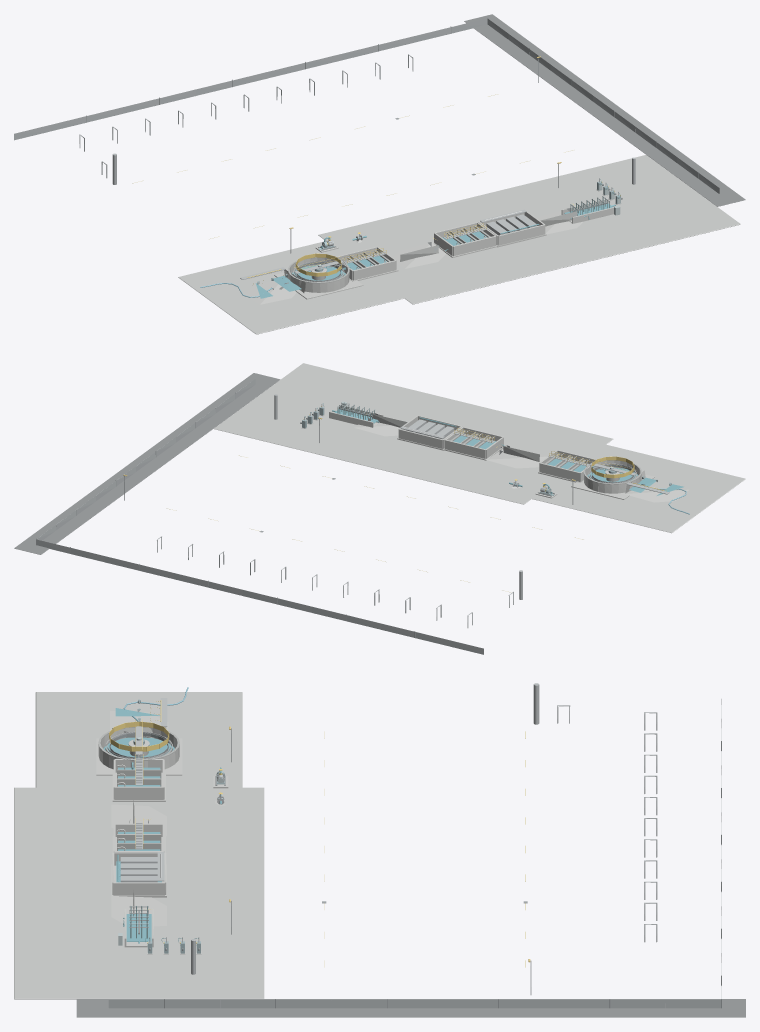
3 renders of one model, top to bottom at view 1: azimuth 30°, elevation 25°; view 2: azimuth 150°, elevation 25°; view 3: azimuth 270°, elevation 25°, orthographic. The views are drawn at different scales.
Visible parts, largest first — view 1: render-batch-11, render-batch-12, render-batch-2, render-batch-7, render-batch-9, render-batch-0, render-batch-8, render-batch-16, render-batch-5; view 2: render-batch-11, render-batch-12, render-batch-2, render-batch-7, render-batch-9, render-batch-0, render-batch-8, render-batch-16, render-batch-5; view 3: render-batch-11, render-batch-12, render-batch-2, render-batch-7, render-batch-9, render-batch-0, render-batch-8, render-batch-5, render-batch-16, render-batch-4.
Boxes of the visible parts, left/top/right/bottom form: render-batch-11: left=178, top=155, right=740, bottom=334; render-batch-12: left=245, top=189, right=621, bottom=304; render-batch-2: left=464, top=14, right=745, bottom=206; render-batch-7: left=14, top=18, right=719, bottom=193; render-batch-9: left=240, top=178, right=618, bottom=281; render-batch-0: left=255, top=179, right=620, bottom=298; render-batch-8: left=279, top=211, right=577, bottom=289; render-batch-16: left=247, top=182, right=620, bottom=284; render-batch-5: left=79, top=17, right=698, bottom=253; render-batch-11: left=214, top=363, right=745, bottom=533; render-batch-12: left=301, top=404, right=688, bottom=502; render-batch-2: left=14, top=373, right=280, bottom=554; render-batch-7: left=36, top=379, right=522, bottom=654; render-batch-9: left=304, top=402, right=669, bottom=494; render-batch-0: left=305, top=403, right=683, bottom=495; render-batch-8: left=371, top=414, right=652, bottom=490; render-batch-16: left=303, top=406, right=666, bottom=491; render-batch-5: left=36, top=392, right=573, bottom=637; render-batch-11: left=14, top=692, right=264, bottom=999; render-batch-12: left=96, top=711, right=228, bottom=954; render-batch-2: left=76, top=999, right=745, bottom=1017; render-batch-7: left=108, top=683, right=721, bottom=1008; render-batch-9: left=107, top=698, right=224, bottom=942; render-batch-0: left=103, top=708, right=221, bottom=943; render-batch-8: left=98, top=727, right=179, bottom=916; render-batch-5: left=164, top=706, right=721, bottom=1008; render-batch-16: left=109, top=700, right=222, bottom=943; render-batch-4: left=109, top=733, right=225, bottom=950.
Bounding box in the file's own units: 142 × 8.03 × 134.
